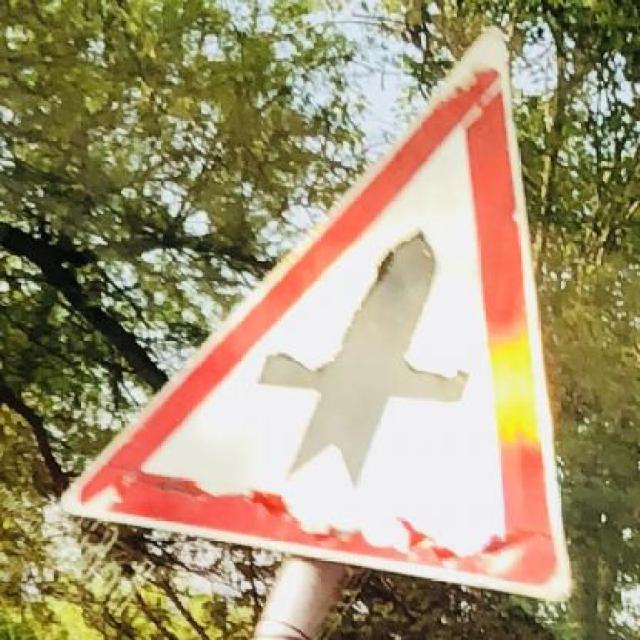cross road: (53, 28, 575, 607)
